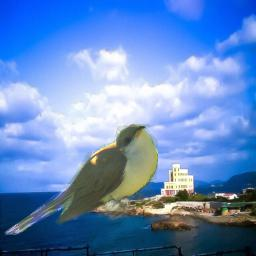Cuckoo: (3, 124, 158, 235)
